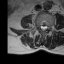CCS_normal: (42, 23, 45, 33)
LFS_normal: (47, 24, 50, 31)
LLS_normal: (45, 23, 47, 32)
RFS_normal: (38, 23, 40, 30)
RLS_normal: (40, 23, 42, 31)
